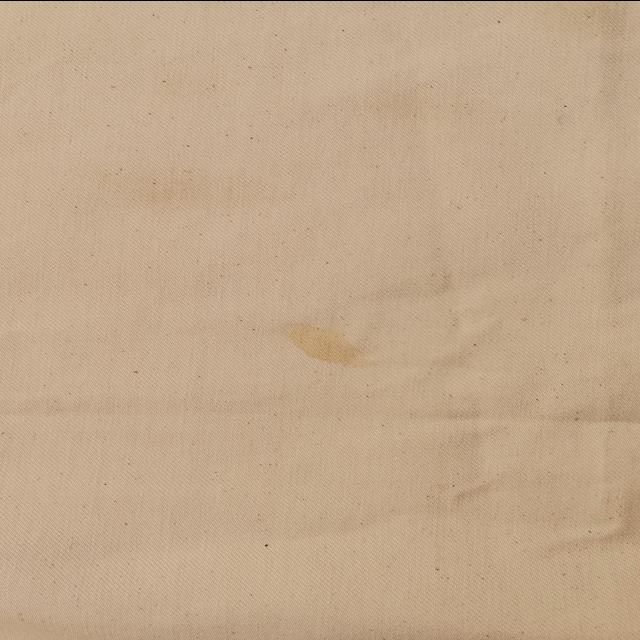taaaches: (258, 310, 386, 374)
